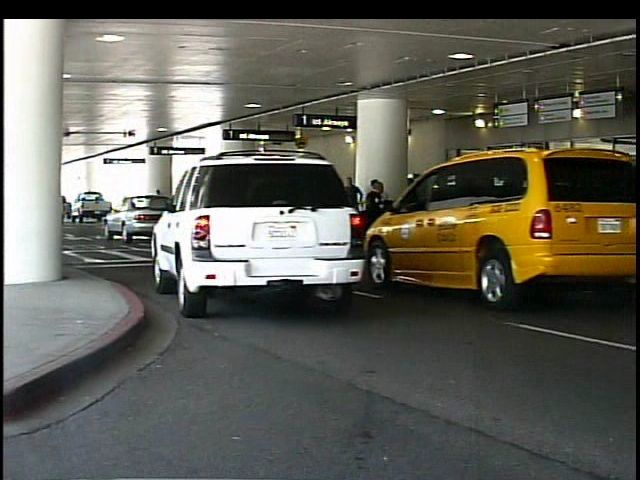person: (519, 165, 548, 262), (365, 178, 392, 259)
